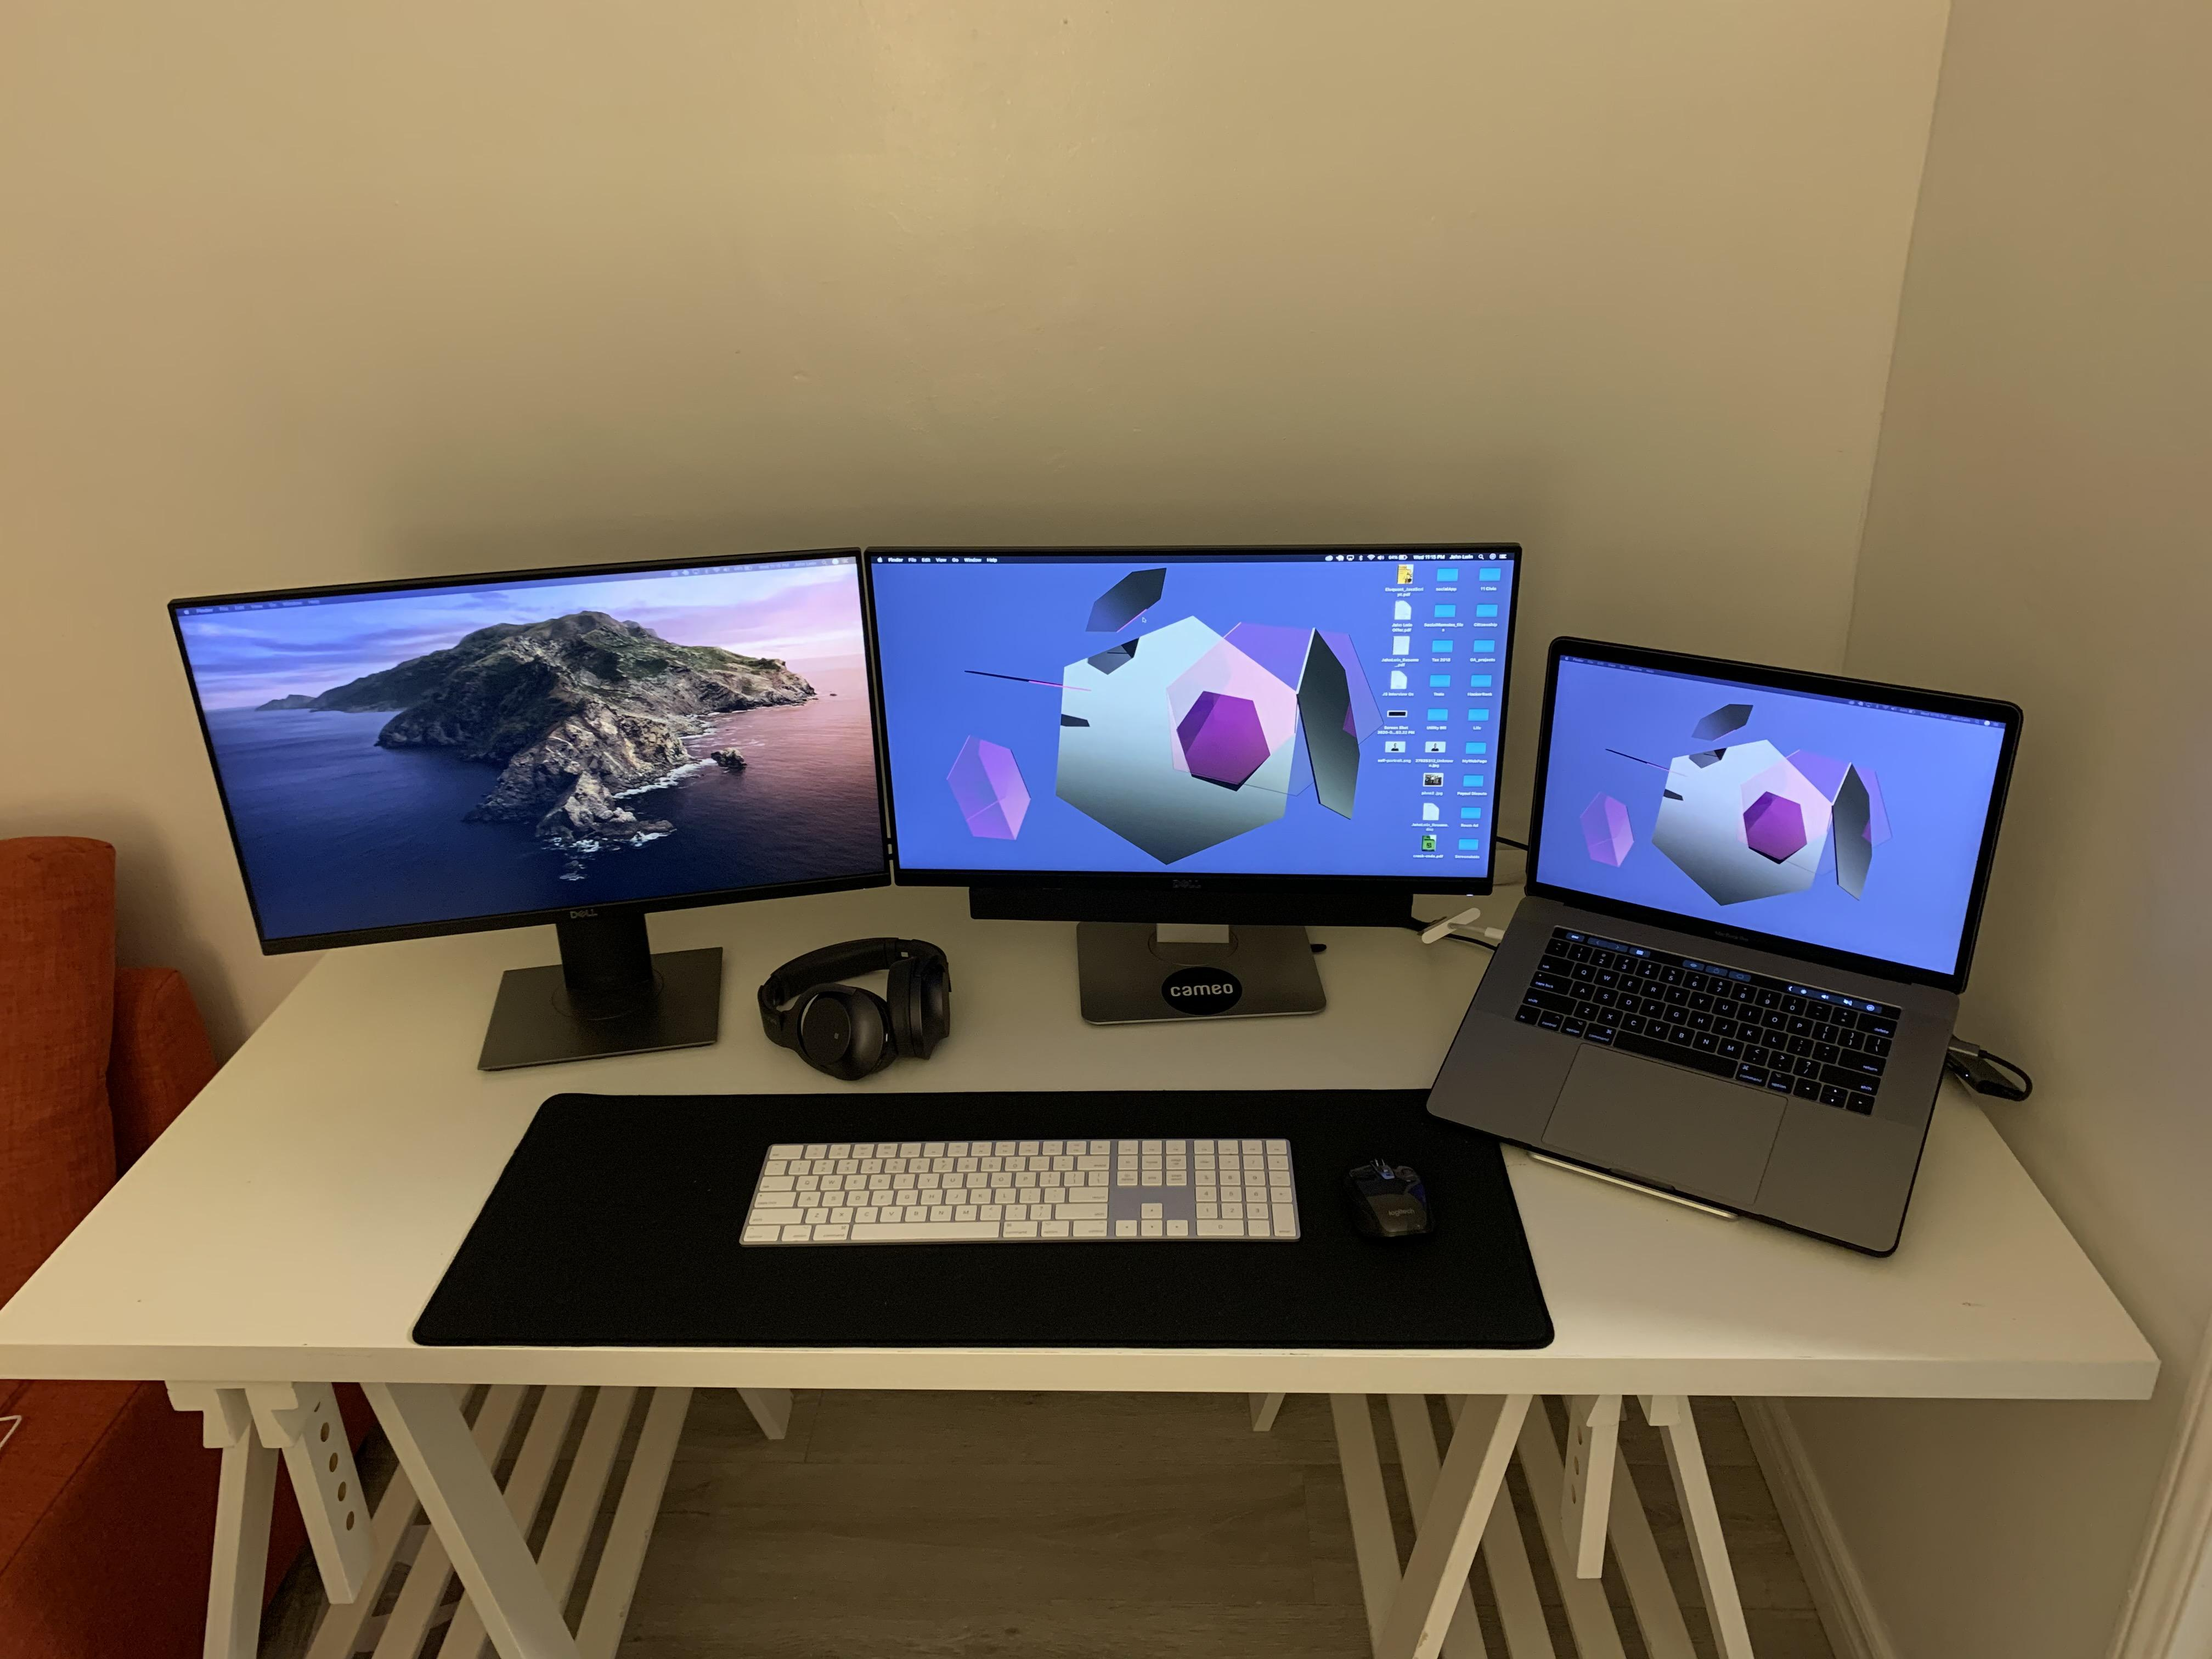Desk (Generic): (2, 882, 2160, 1657)
Headphones: (754, 932, 953, 1080)
Keyboard (Generic): (738, 1140, 1303, 1253)
Laptop (OSX): (1428, 636, 2027, 1256)
Monitor (Landscape): (167, 547, 894, 962), (864, 538, 1522, 894)
Mouse (Generic): (1338, 1159, 1433, 1251)
Mousepad (Gaming): (411, 1089, 1555, 1361)
